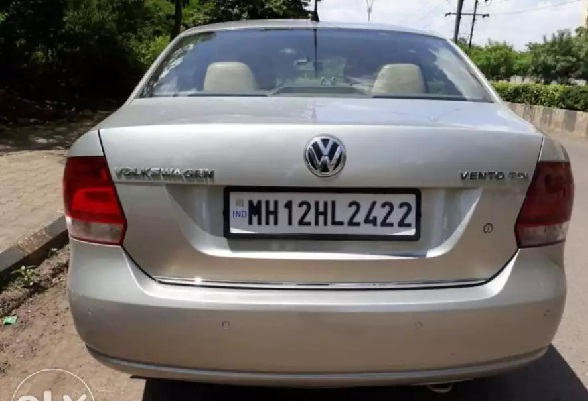licenseplate: (222, 184, 421, 242)
